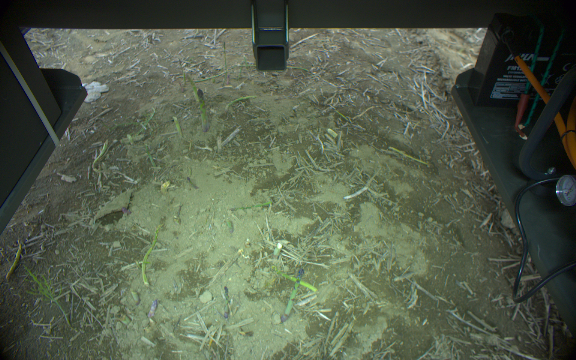aspa: (141, 220, 162, 283), (270, 265, 317, 292), (281, 269, 303, 320), (5, 242, 23, 283), (198, 88, 209, 132), (172, 116, 182, 137)
